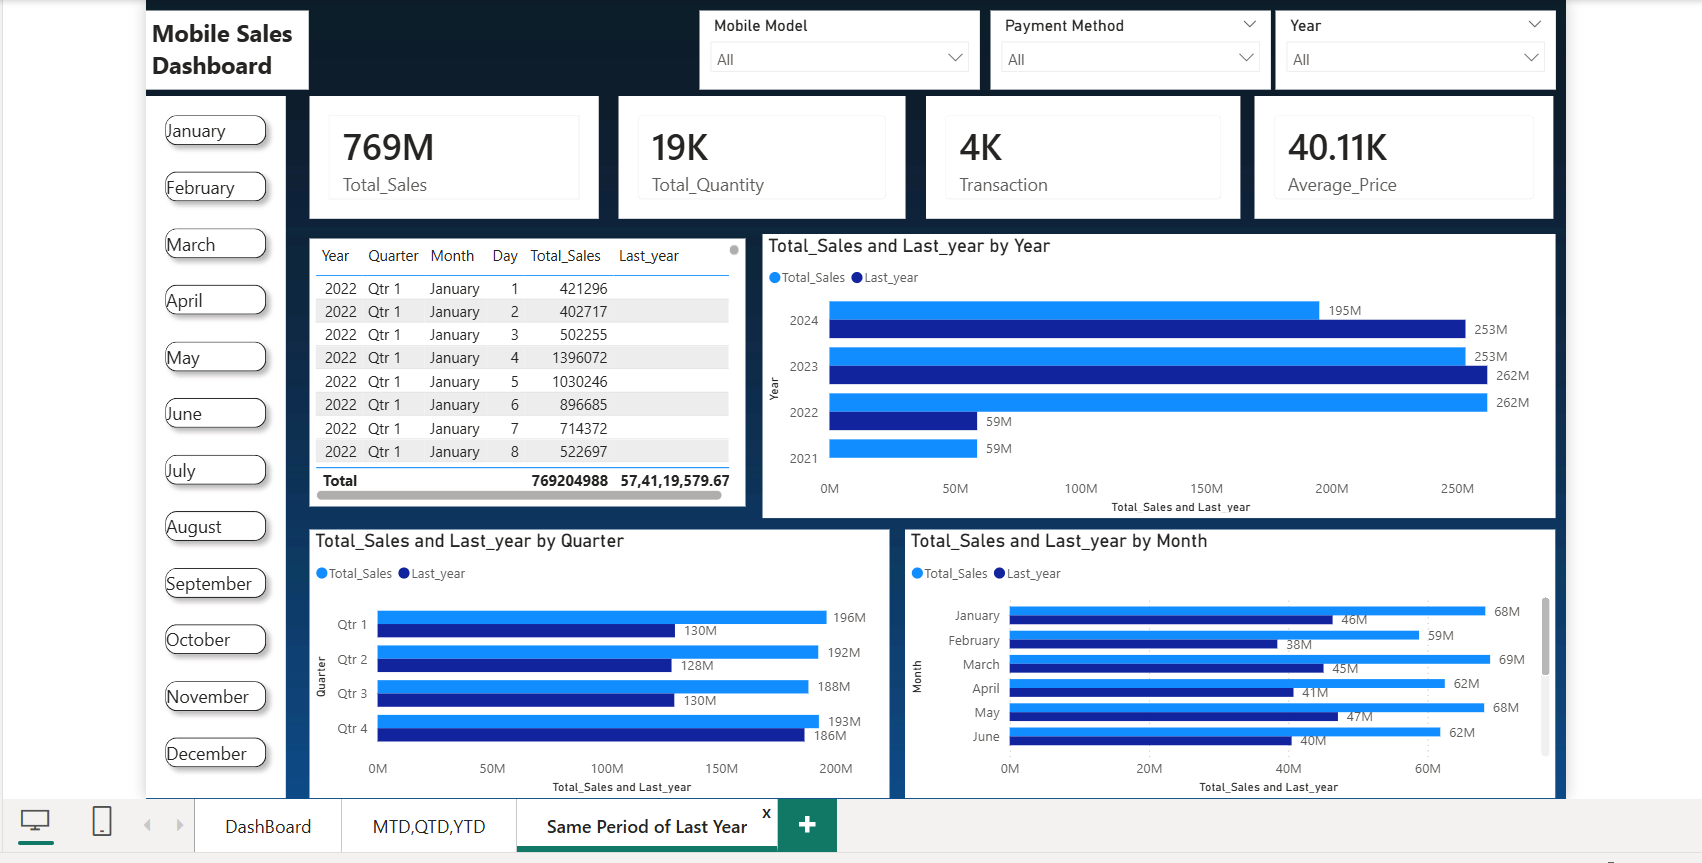

The dashboard page shown, as its layout file describes it:
{"tool":"powerbi","page":{"name":"Same Period of Last Year","canvas":[1280,720],"ordinal":2},"visuals":[{"type":"cardVisual","fields":{"Data":["Mobile_Sales.Total_Sales"]},"box":[146.9,86.3,260.4,110.5],"z":0},{"type":"cardVisual","fields":{"Data":["Mobile_Sales.Total_Quantity"]},"box":[425.5,86.3,258.9,110.5],"z":1000},{"type":"cardVisual","fields":{"Data":["Mobile_Sales.Transaction"]},"box":[702.6,86.3,283.2,110.5],"z":2000},{"type":"cardVisual","fields":{"Data":["Mobile_Sales.Average_Price"]},"box":[999.4,86.3,269.5,110.5],"z":3000},{"type":"listSlicer","fields":{"Values":["Custom_Calender.DATE.Variation.Date Hierarchy.Month"]},"box":[0,86.3,125.7,632.9],"z":4000},{"type":"slicer","fields":{"Values":["Mobile_Sales.Mobile Model"]},"box":[498.2,9.1,252.9,71.2],"z":5000},{"type":"slicer","fields":{"Values":["Mobile_Sales.Payment Method"]},"box":[761.6,9.1,252.9,71.2],"z":6000},{"type":"slicer","fields":{"Values":["Custom_Calender.DATE.Variation.Date Hierarchy.Year"]},"box":[1017.5,9.1,252.9,71.2],"z":7000},{"type":"textbox","box":[0,9.1,146.9,71.2],"z":8000},{"type":"tableEx","fields":{"Values":["Custom_Calender.DATE.Variation.Date Hierarchy.Year","Custom_Calender.DATE.Variation.Date Hierarchy.Quarter","Custom_Calender.DATE.Variation.Date Hierarchy.Month","Custom_Calender.DATE.Variation.Date Hierarchy.Day","Mobile_Sales.Total_Sales","Mobile_Sales.Last_year"]},"box":[146.9,215,392.2,240.8],"z":8001},{"type":"clusteredBarChart","fields":{"Category":["Custom_Calender.DATE.Variation.Date Hierarchy.Year","Custom_Calender.DATE.Variation.Date Hierarchy.Quarter"],"Y":["Mobile_Sales.Total_Sales","Mobile_Sales.Last_year"]},"box":[555.7,210.5,714.7,255.9],"z":8002},{"type":"clusteredBarChart","fields":{"Category":["Custom_Calender.DATE.Variation.Date Hierarchy.Quarter"],"Y":["Mobile_Sales.Total_Sales","Mobile_Sales.Last_year"]},"box":[146.9,477,522.4,242.3],"z":8003},{"type":"clusteredBarChart","fields":{"Category":["Custom_Calender.DATE.Variation.Date Hierarchy.Month"],"Y":["Mobile_Sales.Total_Sales","Mobile_Sales.Last_year"]},"box":[684.4,477,586,242.3],"z":8004}]}

Visuals, with their boxes on the page's 1280x720 design canvas (x1, y1, x2, y2). These are canvas units, not pixel positions in the 1702x863 screenshot, which may show the page scaled, cropped or inside an application window:
cardVisual - Mobile_Sales.Total_Sales: [147,86,407,197]
cardVisual - Mobile_Sales.Total_Quantity: [426,86,684,197]
cardVisual - Mobile_Sales.Transaction: [703,86,986,197]
cardVisual - Mobile_Sales.Average_Price: [999,86,1269,197]
listSlicer - Custom_Calender.DATE.Variation.Date Hierarchy.Month: [0,86,126,719]
slicer - Mobile_Sales.Mobile Model: [498,9,751,80]
slicer - Mobile_Sales.Payment Method: [762,9,1014,80]
slicer - Custom_Calender.DATE.Variation.Date Hierarchy.Year: [1018,9,1270,80]
textbox: [0,9,147,80]
tableEx - Custom_Calender.DATE.Variation.Date Hierarchy.Year x Custom_Calender.DATE.Variation.Date Hierarchy.Quarter: [147,215,539,456]
clusteredBarChart - Custom_Calender.DATE.Variation.Date Hierarchy.Year x Custom_Calender.DATE.Variation.Date Hierarchy.Quarter: [556,210,1270,466]
clusteredBarChart - Custom_Calender.DATE.Variation.Date Hierarchy.Quarter x Mobile_Sales.Total_Sales: [147,477,669,719]
clusteredBarChart - Custom_Calender.DATE.Variation.Date Hierarchy.Month x Mobile_Sales.Total_Sales: [684,477,1270,719]
